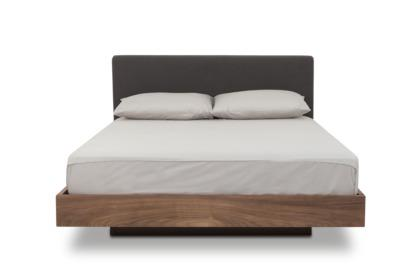bed: (52, 39, 372, 244)
